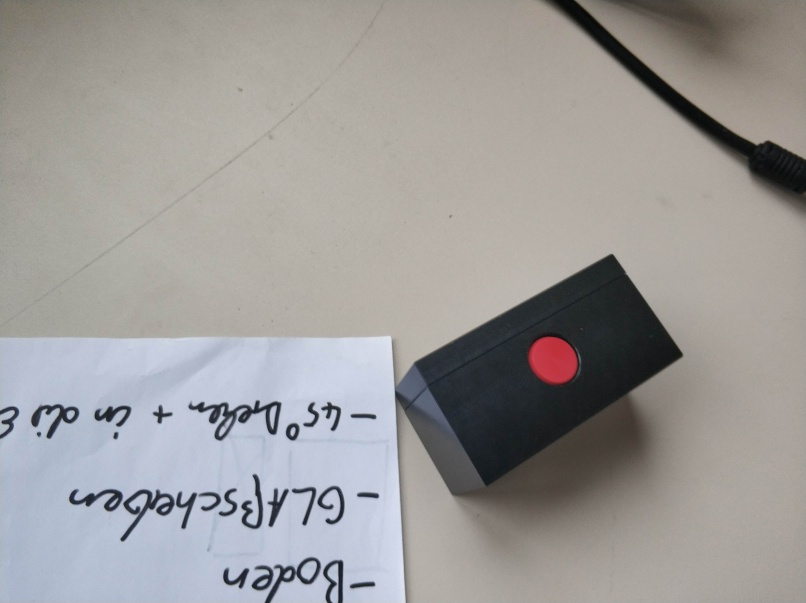black+black+red: (391, 247, 688, 500)
